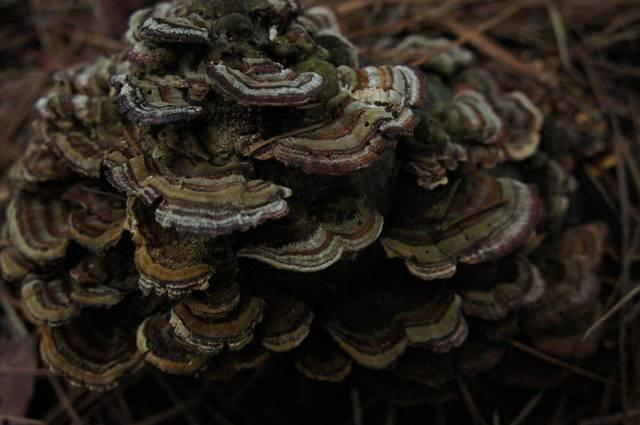poisonous_mushroom: (1, 0, 584, 392), (204, 58, 327, 109)
